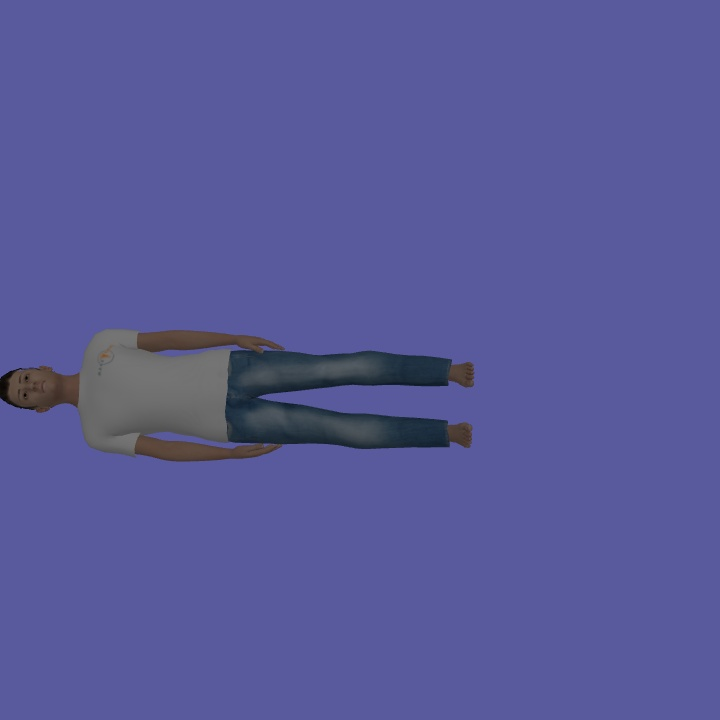victim: (1, 324, 474, 461)
